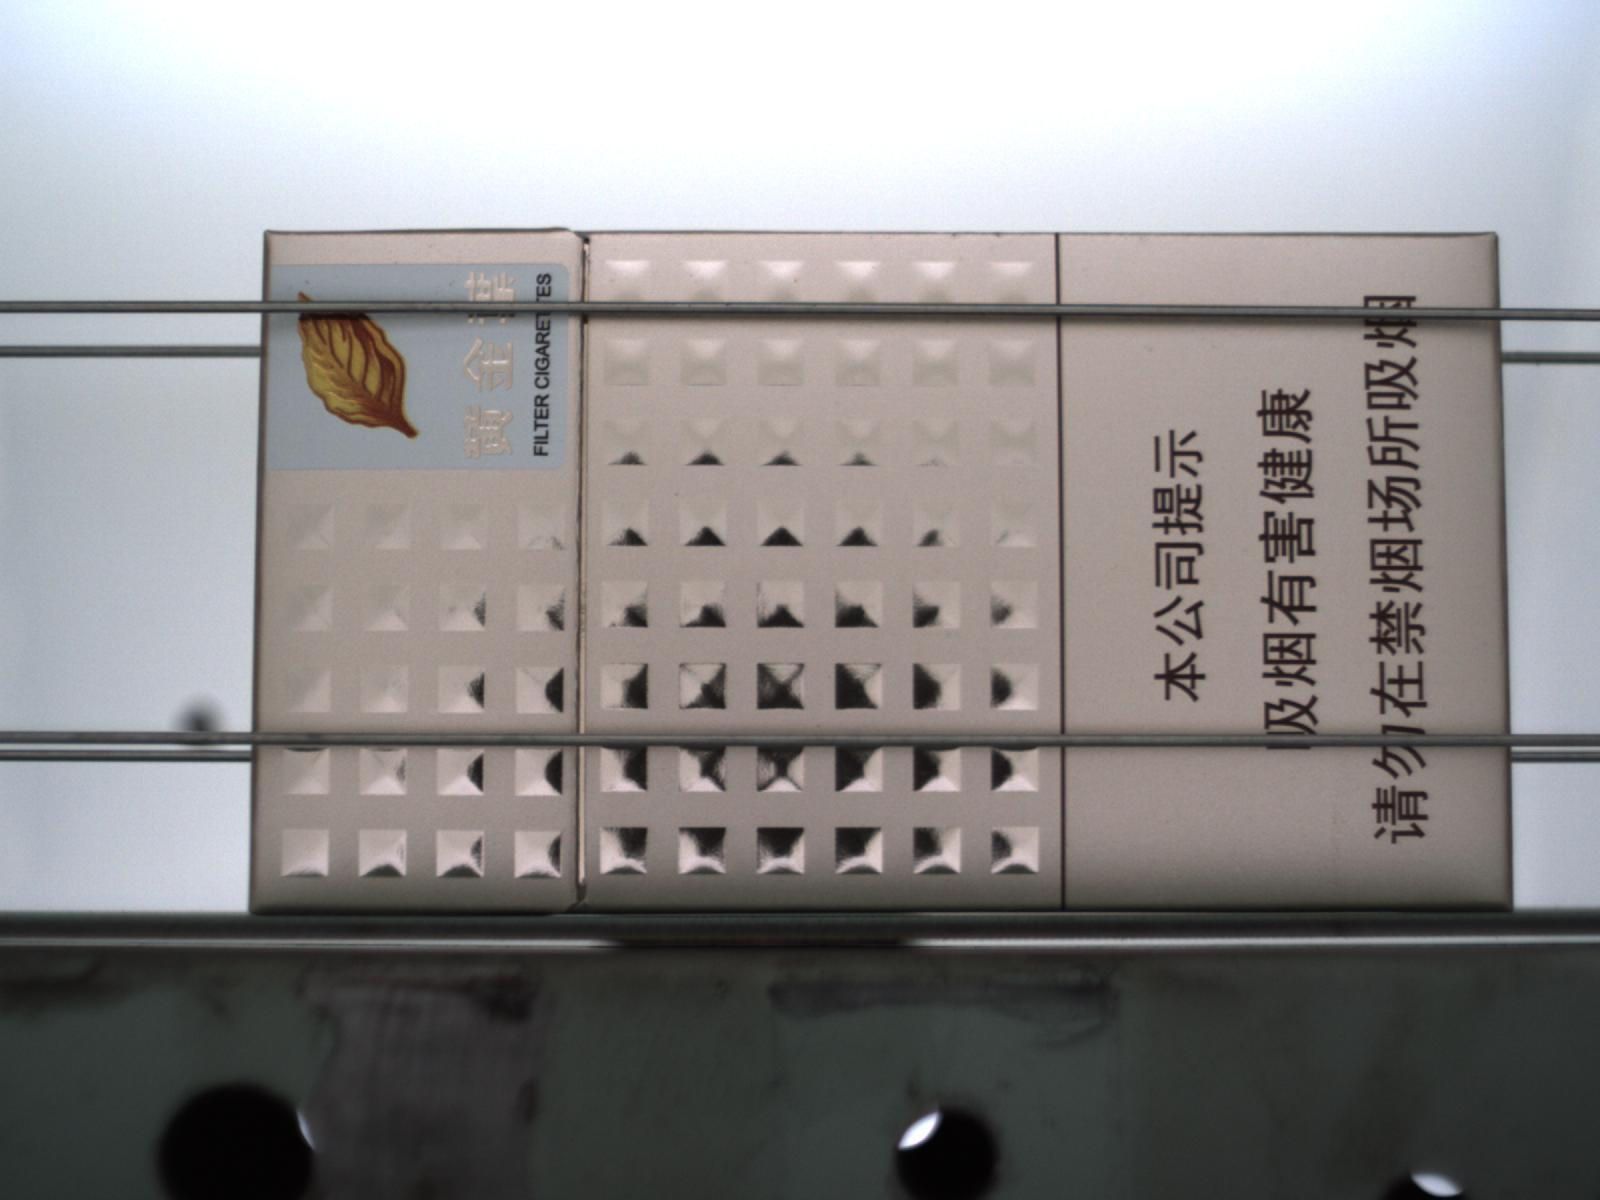dirtySpot: (671, 488, 685, 502), (991, 229, 1007, 242), (790, 275, 804, 287), (814, 718, 825, 732), (1145, 345, 1158, 357)
